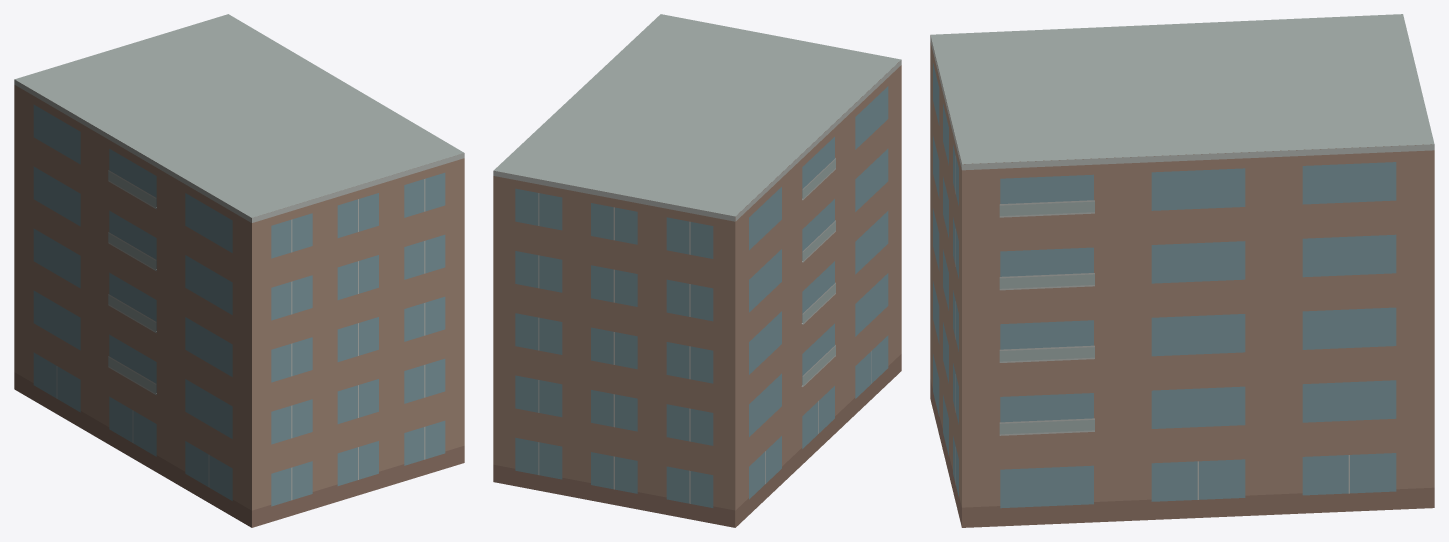
Rendered from survey-upis-32638837.glb.
3 views of the same model, side by side, from view 1: azimuth 30°, elevation 25°; view 2: azimuth 150°, elevation 25°; view 3: azimuth 270°, elevation 25° (orthographic). The views are drawn at different scales.
Parts seen in each view (by area): view 1: survey-upis-32638837.tmp; view 2: survey-upis-32638837.tmp; view 3: survey-upis-32638837.tmp.
Boxes of the visible parts, x1,y1,x2,y2 form: survey-upis-32638837.tmp: (14, 14, 464, 527); survey-upis-32638837.tmp: (493, 14, 901, 527); survey-upis-32638837.tmp: (930, 14, 1434, 527).
Size of the model in its own units: 12.85 by 14.5 by 18.23.
